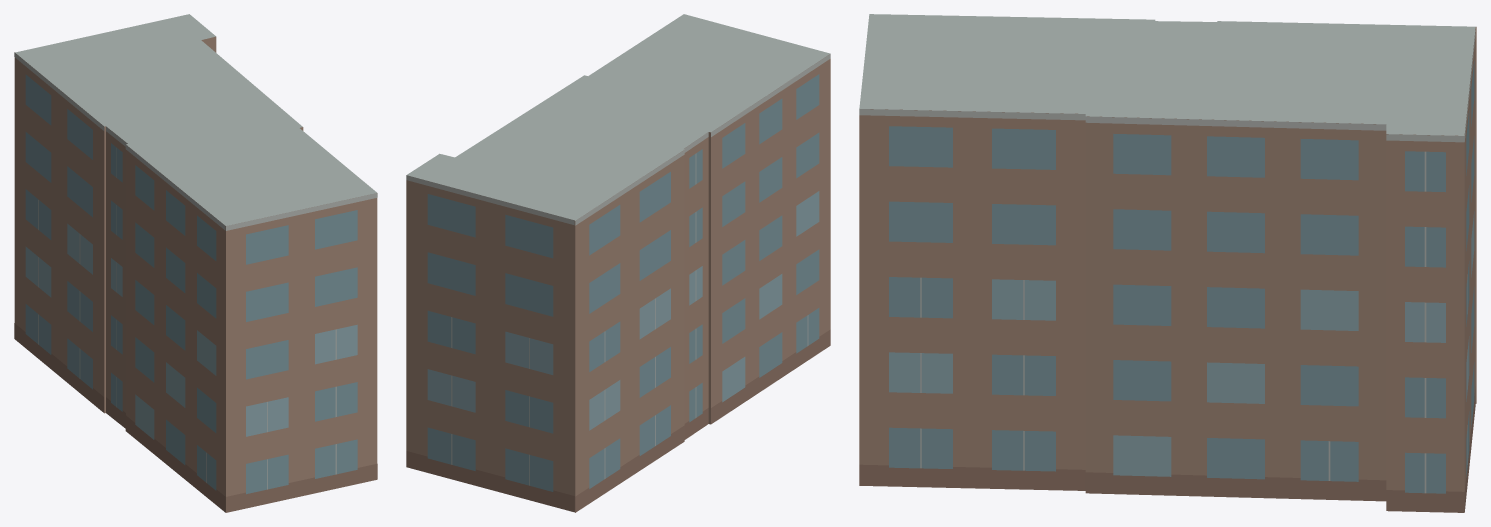
File: survey-upis-33001565.glb
The picture shows the model from 3 angles, left to right: view 1: azimuth 30°, elevation 25°; view 2: azimuth 150°, elevation 25°; view 3: azimuth 270°, elevation 25°; orthographic projection. The views are drawn at different scales.
Visible parts, largest first — view 1: survey-upis-33001565.tmp; view 2: survey-upis-33001565.tmp; view 3: survey-upis-33001565.tmp.
Part boxes in pixels (x1,y1,x2,y2): survey-upis-33001565.tmp: [14, 14, 377, 512]; survey-upis-33001565.tmp: [406, 14, 830, 512]; survey-upis-33001565.tmp: [859, 14, 1476, 512].
Bounding box in the file's own units: 9.93 × 14.3 × 21.23.
